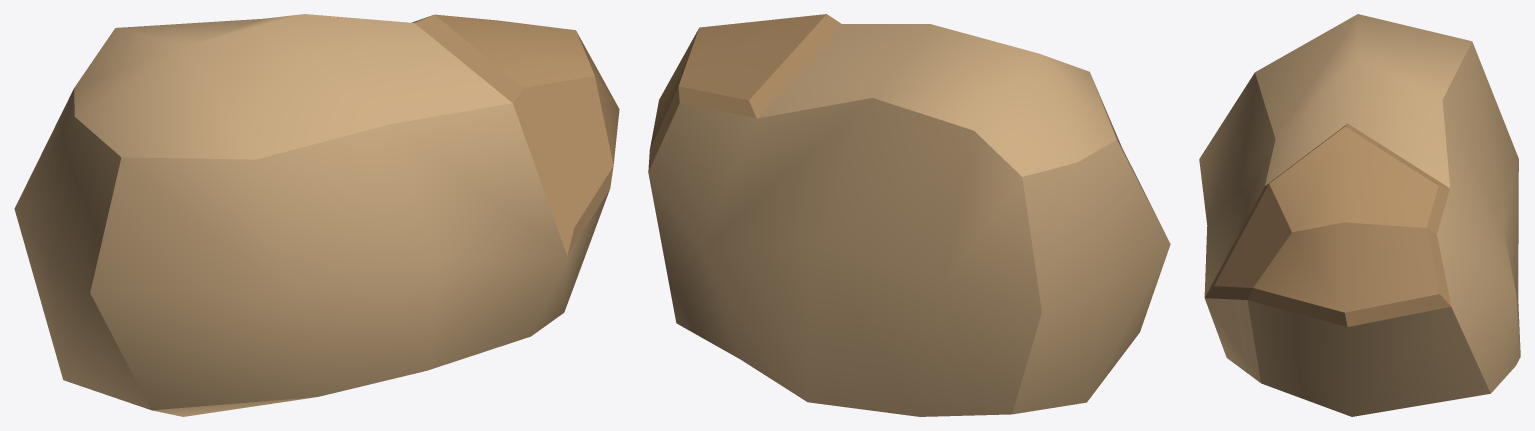
File: Stone_Temple_03.fbx
3 views of the same model, side by side, from view 1: azimuth 30°, elevation 25°; view 2: azimuth 150°, elevation 25°; view 3: azimuth 270°, elevation 25° (orthographic). The views are drawn at different scales.
Parts seen in each view (by area): view 1: Stone_003; view 2: Stone_003; view 3: Stone_003.
Part boxes in pixels (left/top/right/bottom): Stone_003: left=14, top=14, right=619, bottom=416; Stone_003: left=648, top=14, right=1170, bottom=416; Stone_003: left=1199, top=14, right=1520, bottom=416.
Bounding box in the file's own units: 76.06 × 48.53 × 47.87.
1 material, 1 textured.
